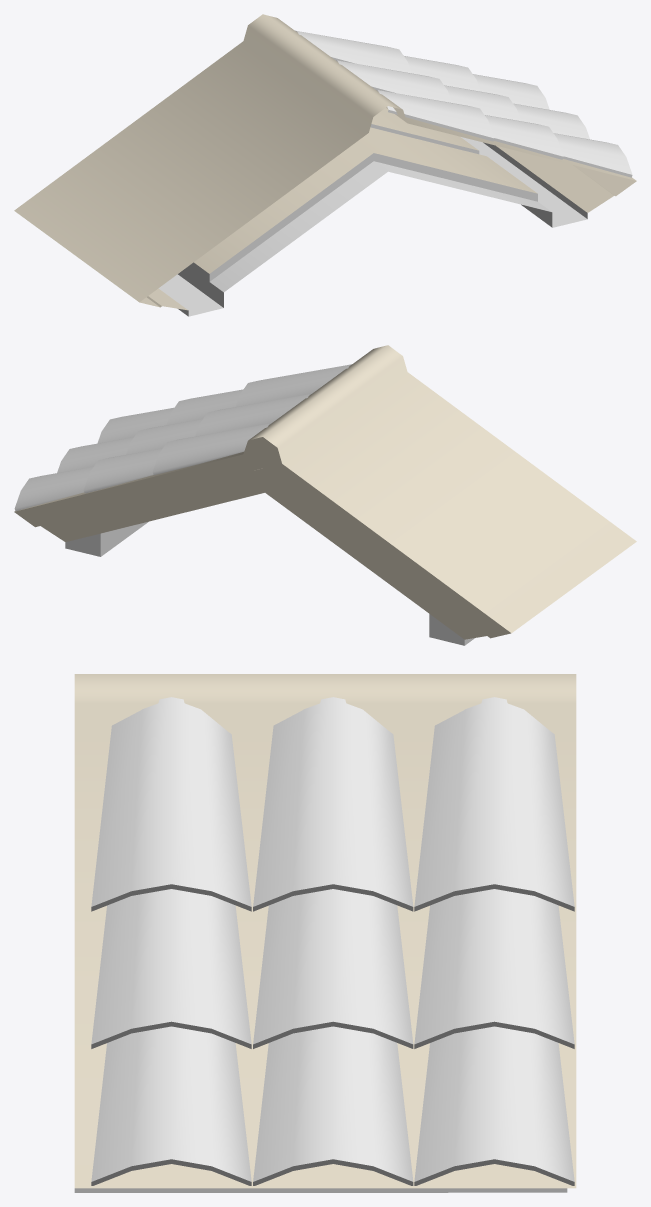
File: TettoPortaTerrazzo.fbx
3 views of the same model, one above another, from view 1: azimuth 30°, elevation 25°; view 2: azimuth 150°, elevation 25°; view 3: azimuth 270°, elevation 25° (orthographic). The views are drawn at different scales.
Visible parts, largest first — view 1: TettoPortaTerrazzo, Tegole; view 2: TettoPortaTerrazzo, Tegole; view 3: Tegole, TettoPortaTerrazzo.
Boxes of the visible parts, x1,y1,x2,y2 form: TettoPortaTerrazzo: (14, 14, 636, 316); Tegole: (295, 30, 632, 177); TettoPortaTerrazzo: (14, 345, 636, 645); Tegole: (14, 364, 351, 510); Tegole: (91, 697, 574, 1185); TettoPortaTerrazzo: (74, 674, 576, 1192).
Bounding box in the file's own units: 249 × 76.7 × 108.
